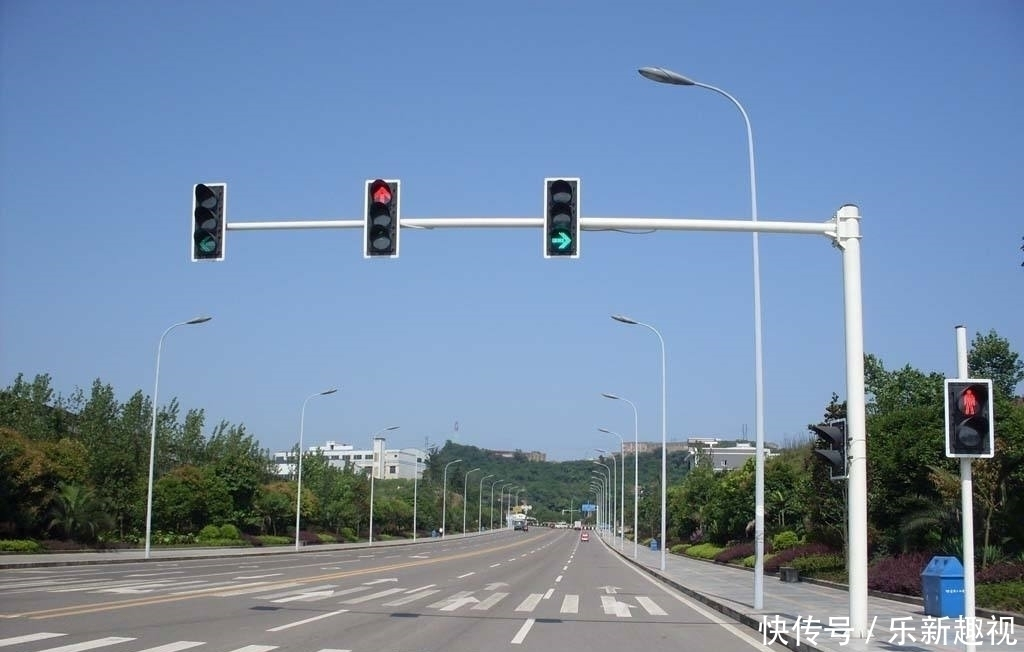traffic light: (946, 377, 995, 460), (544, 177, 580, 259), (192, 180, 227, 262), (364, 179, 398, 259), (809, 422, 848, 478)
